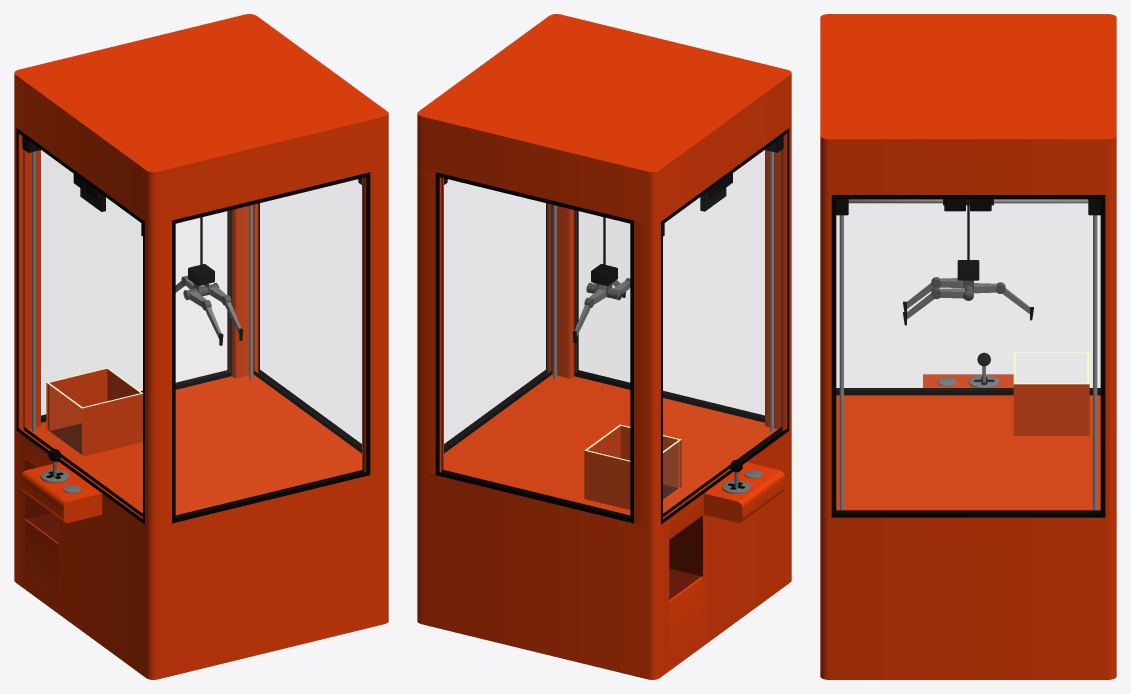
File: claw_machine.glb
The picture shows the model from 3 angles, left to right: view 1: azimuth 30°, elevation 25°; view 2: azimuth 150°, elevation 25°; view 3: azimuth 270°, elevation 25°; orthographic projection. The views are drawn at different scales.
Parts seen in each view (by area): view 1: SM_Body_Top, SM_Body, SM_Mirror, SM_Body_InnerGlass, SM_ControllerBase, SM_VerticalBar, SM_Hand_Holder; view 2: SM_Body_Top, SM_Body, SM_Mirror, SM_Body_InnerGlass, SM_ControllerBase, SM_VerticalBar, SM_Hand_Holder; view 3: SM_Body, SM_Body_Top, SM_Mirror, SM_Body_InnerGlass, SM_VerticalBar, SM_HorizontalBar_Forward, SM_ControllerBase, SM_Hand_3, SM_Hand_Holder, SM_HorizontalBar_Sides, SM_Hand_1, SM_Hand_2.
Boxes of the visible parts, x1,y1,x2,y2 form: SM_Body_Top: (14, 14, 388, 527); SM_Body: (14, 374, 388, 679); SM_Mirror: (16, 128, 370, 524); SM_Body_InnerGlass: (46, 367, 142, 456); SM_ControllerBase: (21, 462, 102, 522); SM_VerticalBar: (32, 151, 252, 431); SM_Hand_Holder: (183, 264, 219, 300); SM_Body_Top: (417, 14, 791, 527); SM_Body: (417, 374, 791, 679); SM_Mirror: (435, 128, 789, 524); SM_Body_InnerGlass: (584, 424, 681, 509); SM_ControllerBase: (703, 462, 784, 522); SM_VerticalBar: (553, 151, 773, 431); SM_Hand_Holder: (586, 264, 622, 300); SM_Body: (820, 395, 1116, 679); SM_Body_Top: (820, 14, 1116, 517); SM_Mirror: (831, 195, 1105, 517); SM_Body_InnerGlass: (1013, 352, 1089, 435); SM_VerticalBar: (839, 215, 1097, 510); SM_HorizontalBar_Forward: (836, 199, 1100, 215); SM_ControllerBase: (923, 374, 1013, 387); SM_Hand_3: (903, 286, 973, 325); SM_Hand_Holder: (957, 260, 979, 300); SM_HorizontalBar_Sides: (943, 199, 993, 211); SM_Hand_1: (973, 282, 1033, 320); SM_Hand_2: (903, 277, 962, 311).
Size of what is drawn, in the model's own units: 11.6 by 20.11 by 10.
